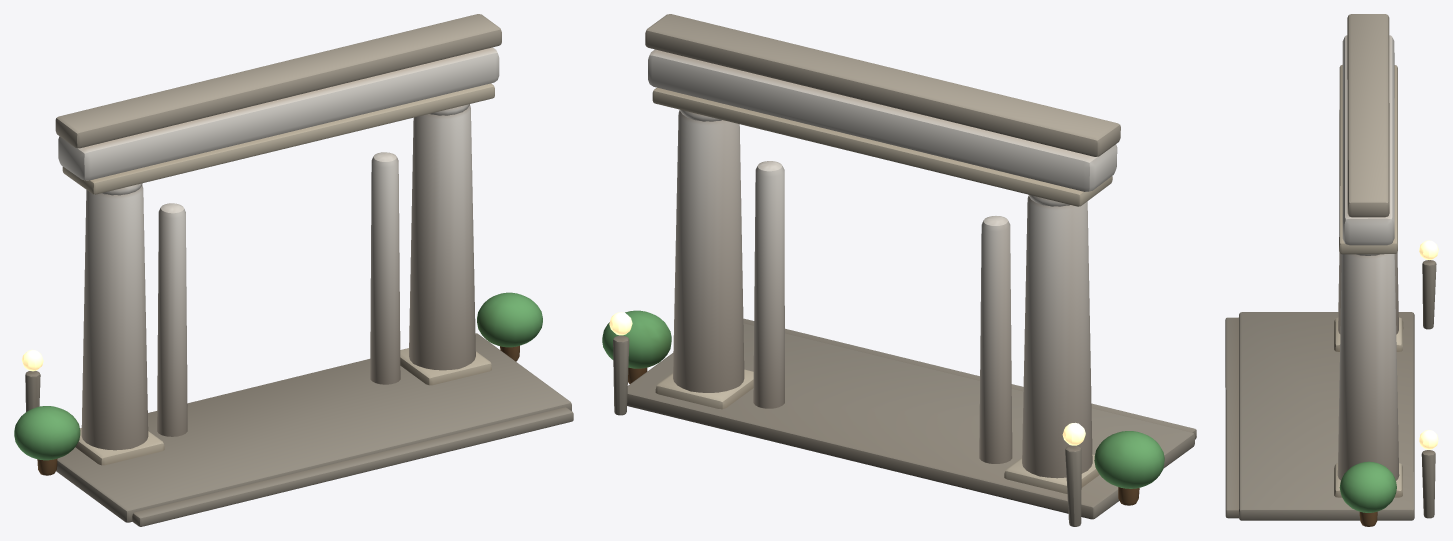
The picture shows the model from 3 angles, left to right: view 1: azimuth 30°, elevation 25°; view 2: azimuth 150°, elevation 25°; view 3: azimuth 270°, elevation 25°; orthographic projection. The views are drawn at different scales.
Visible parts, largest first — view 1: gate_f7b77763; view 2: gate_f7b77763; view 3: gate_f7b77763.
Part boxes in pixels (x1,y1,x2,y2): gate_f7b77763: (14, 14, 573, 526); gate_f7b77763: (602, 14, 1196, 526); gate_f7b77763: (1225, 14, 1438, 526).
Size of the model in its own units: 6.56 by 4.17 by 2.55.
